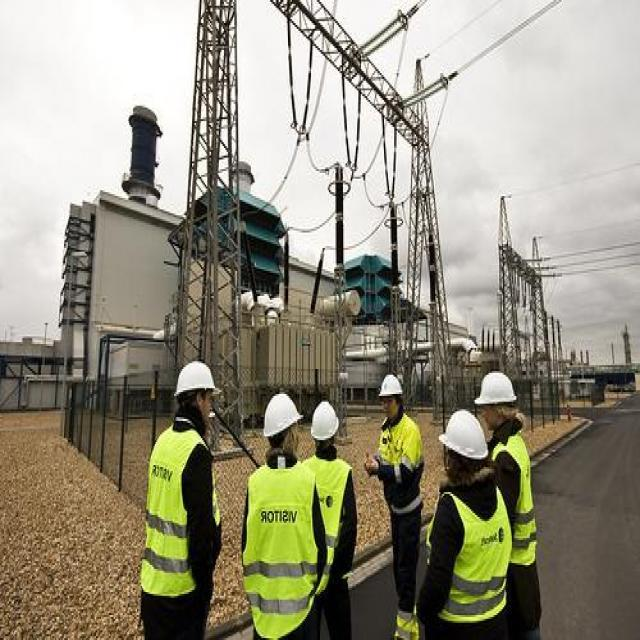reflective_jacket: (131, 420, 226, 601), (234, 457, 325, 639), (409, 482, 517, 632), (299, 451, 360, 599), (486, 428, 546, 578), (367, 409, 431, 516)
safety_helmet: (435, 400, 494, 470), (166, 349, 223, 407), (256, 384, 306, 447), (471, 363, 523, 417), (307, 392, 345, 451), (372, 365, 409, 407)
